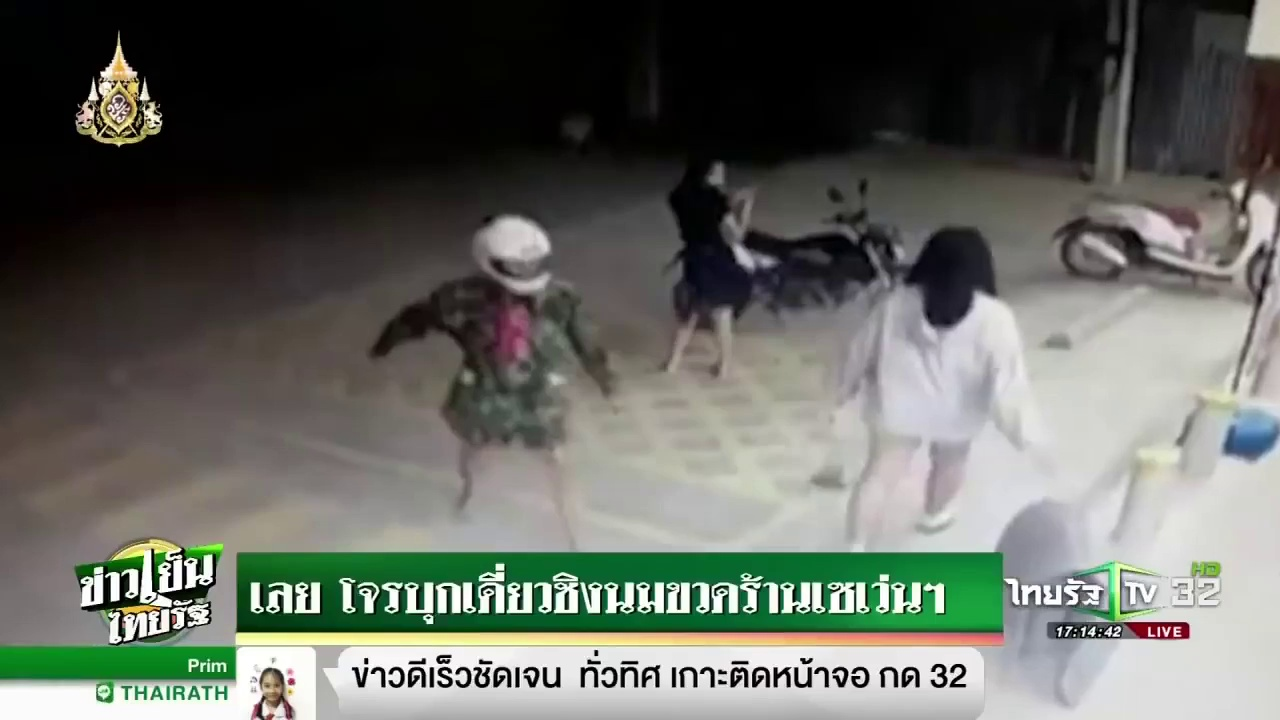helmet: (458, 201, 566, 297)
